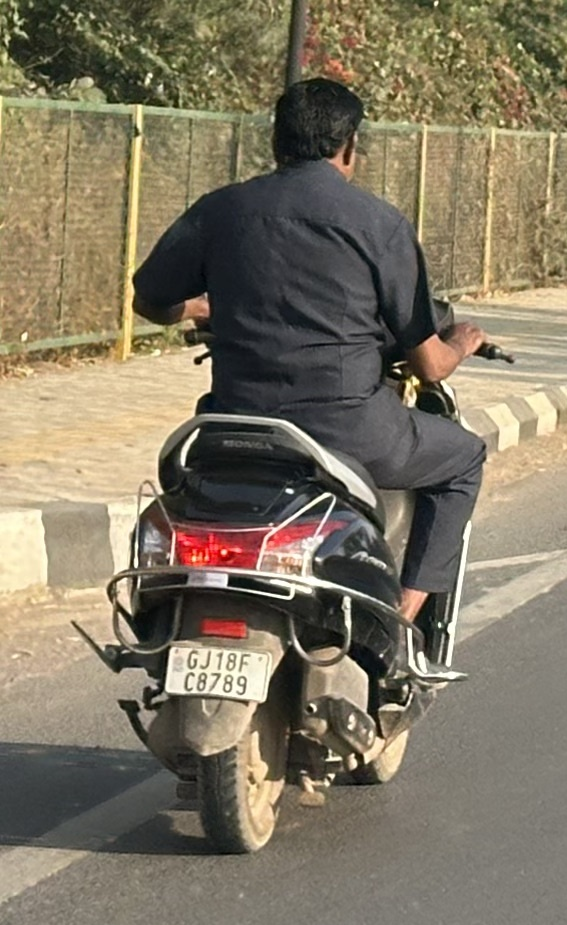BikeWithRider: (61, 62, 526, 863)
NoHelmet: (254, 67, 380, 189)
